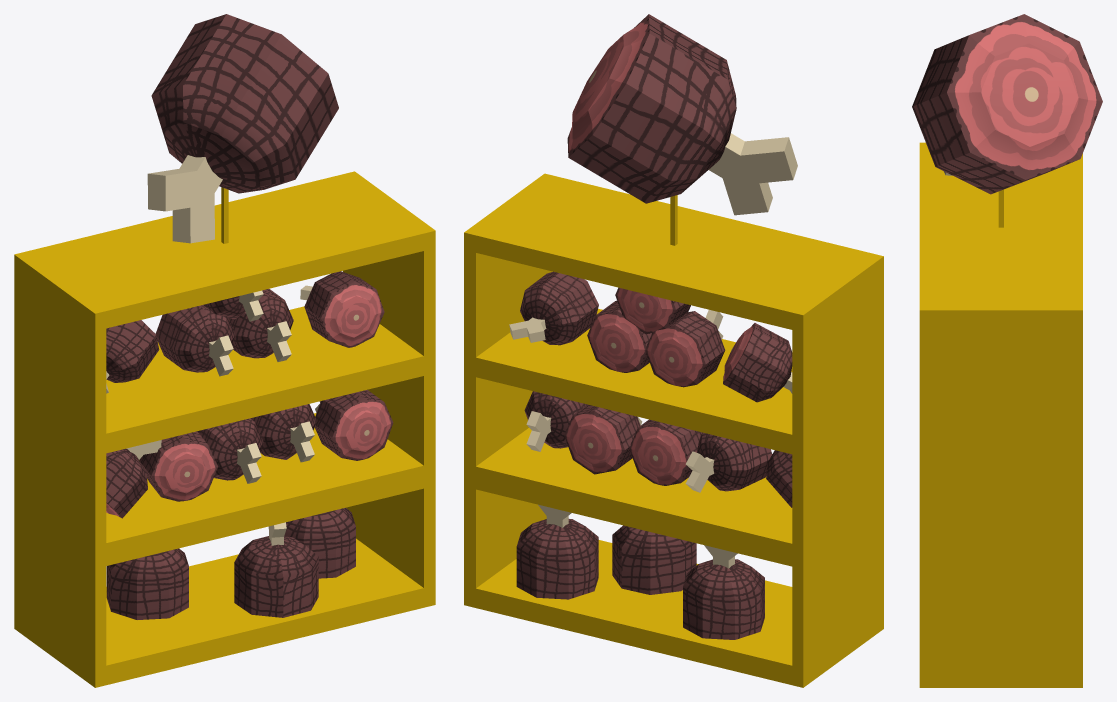
The model's file is HamSpawner.fbx.
3 renders of one model, left to right at view 1: azimuth 30°, elevation 25°; view 2: azimuth 150°, elevation 25°; view 3: azimuth 270°, elevation 25°, orthographic.
Visible parts, largest first — view 1: shelf_geo, meat_geo (×13), boneEnd_geo (×5); view 2: shelf_geo, meat_geo (×14), boneEnd_geo (×4); view 3: shelf_geo, meat_geo.
Part boxes in pixels (box(x1,y1,x2,y2)): shelf_geo: box(14, 171, 435, 687); meat_geo (×13): box(106, 14, 393, 619); boneEnd_geo (×5): box(147, 168, 314, 483); shelf_geo: box(464, 173, 883, 687); meat_geo (×14): box(516, 14, 792, 639); boneEnd_geo (×4): box(509, 137, 797, 492); shelf_geo: box(919, 142, 1082, 687); meat_geo: box(912, 14, 1102, 194).
Bounding box in the file's own units: 5.76 × 9.55 × 2.77.
Materials: 3 (1 with a texture image).
